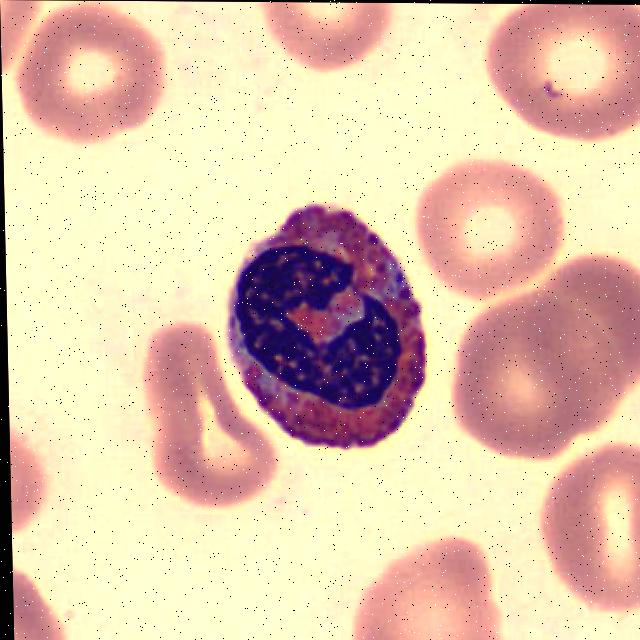eosinophil: (207, 195, 434, 456)
rbc: (445, 293, 624, 459), (134, 327, 268, 497), (410, 154, 570, 296), (478, 4, 640, 142), (512, 240, 640, 414), (19, 9, 178, 137), (535, 437, 640, 618), (348, 527, 503, 640), (245, 2, 420, 92), (14, 566, 79, 640), (10, 433, 50, 539), (0, 0, 50, 68)
